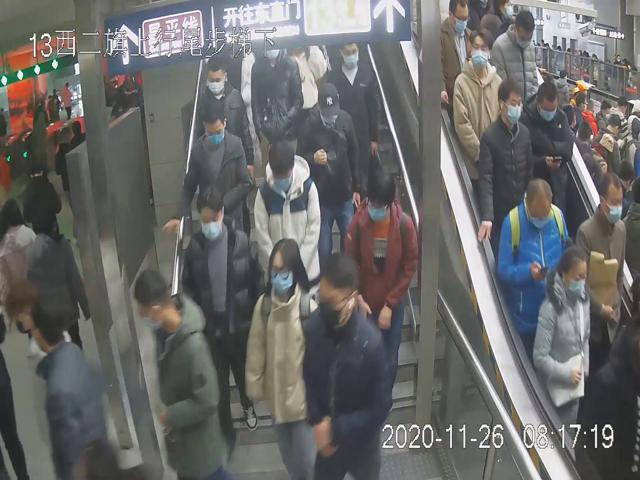person: (179, 184, 265, 457), (301, 253, 392, 480), (243, 238, 326, 478), (340, 166, 419, 396), (527, 244, 610, 425), (158, 108, 252, 266), (250, 140, 324, 317), (494, 177, 570, 338), (295, 78, 360, 249), (474, 78, 536, 242), (451, 29, 508, 160), (190, 60, 251, 160), (327, 44, 382, 153)
